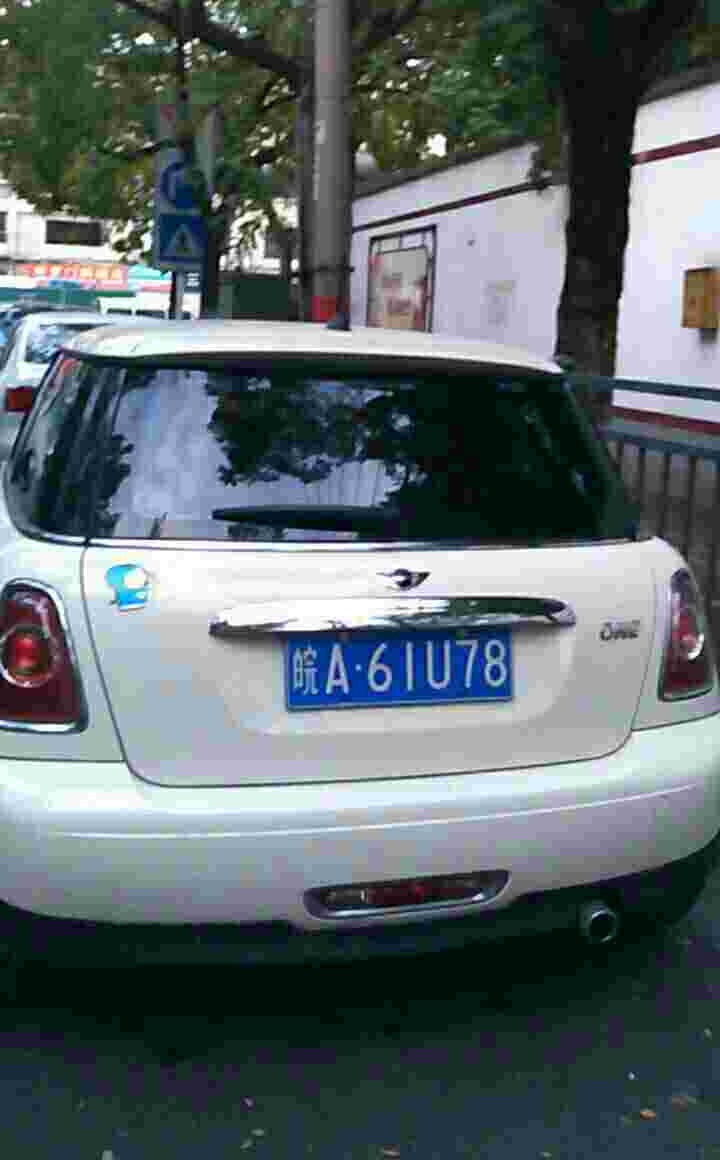plate: (292, 621, 520, 711)
